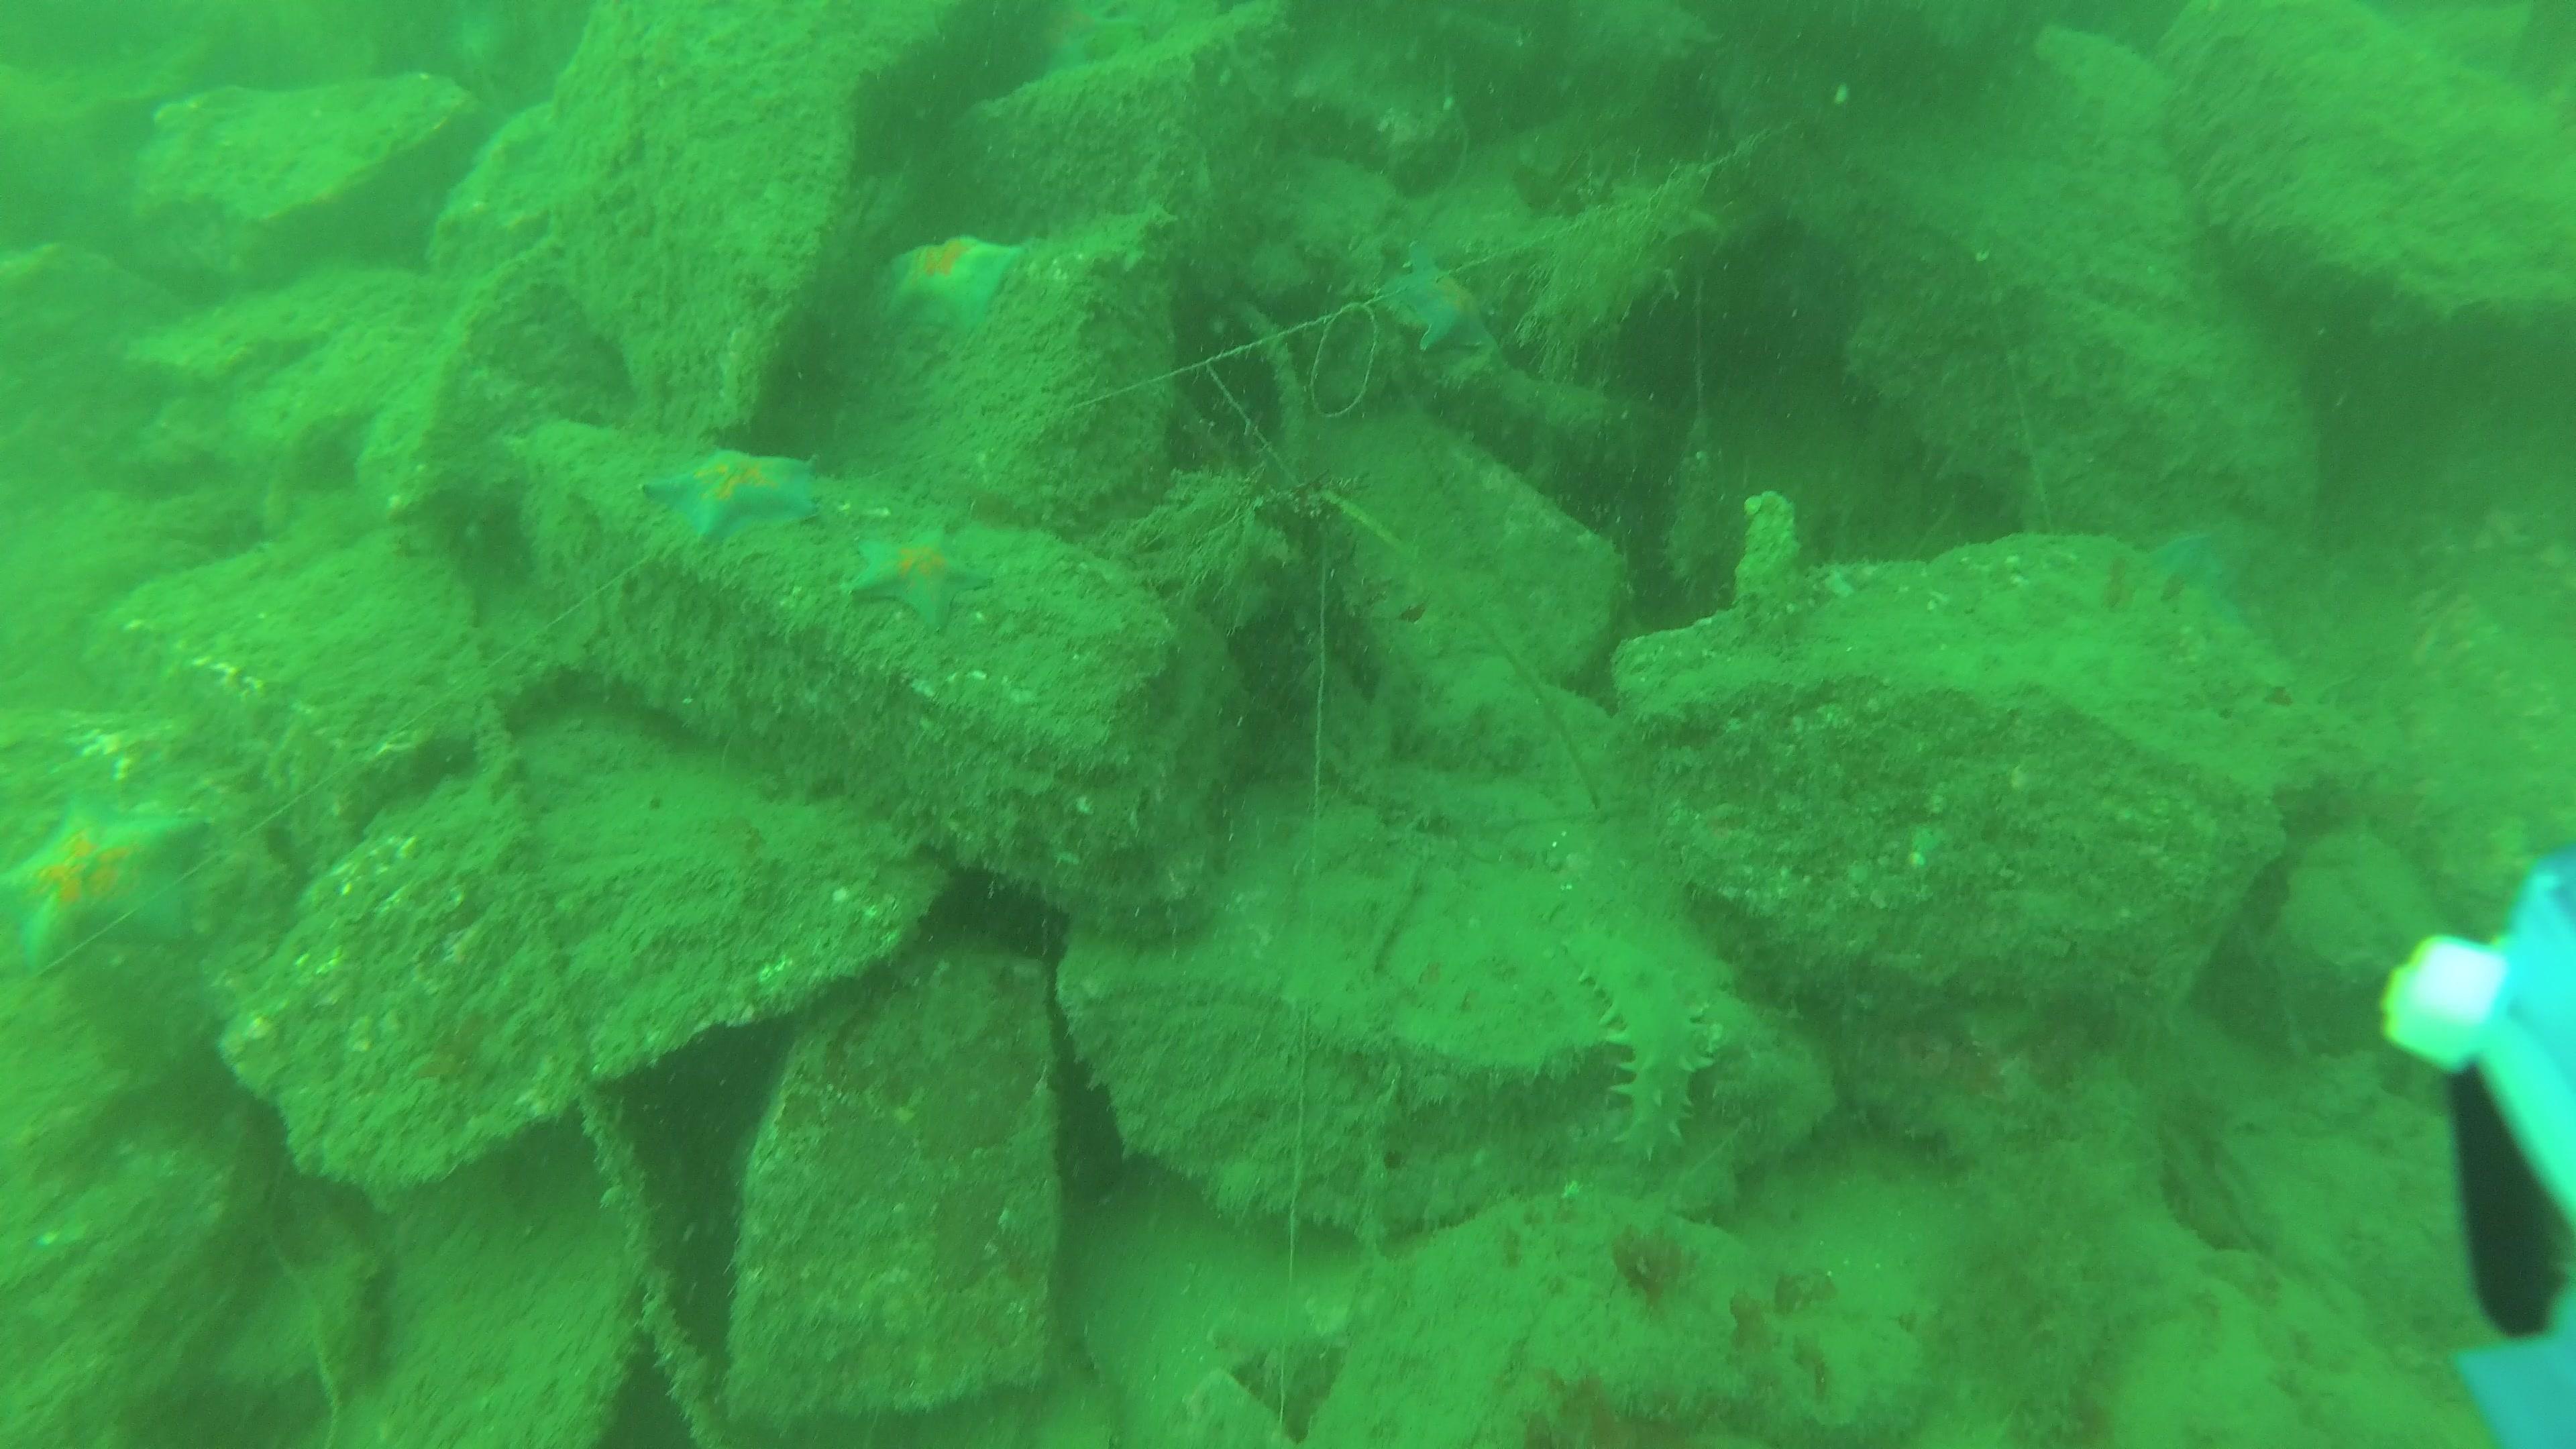holothurian: (1560, 924, 1716, 1162)
starfish: (4, 800, 200, 970), (651, 449, 821, 540), (897, 234, 1026, 336), (855, 524, 987, 623), (1376, 265, 1495, 349)
